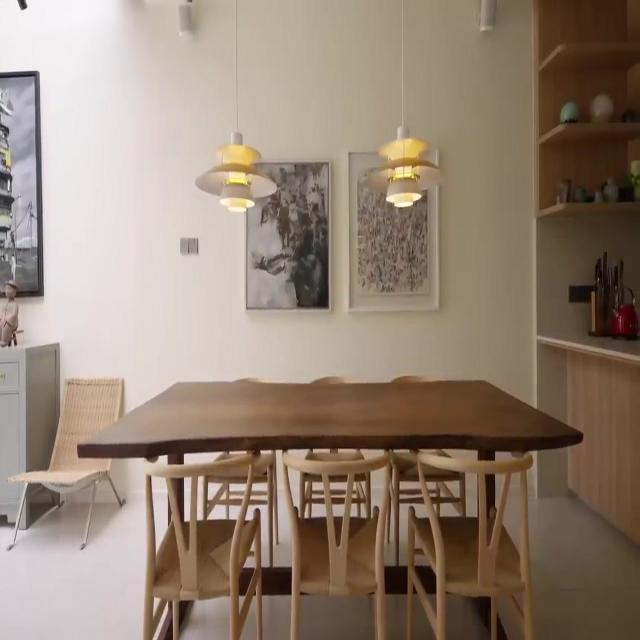obstacle: (77, 375, 583, 637), (532, 0, 640, 547), (406, 451, 534, 639), (143, 455, 263, 639), (6, 376, 126, 551), (281, 449, 390, 638), (0, 341, 60, 530)
